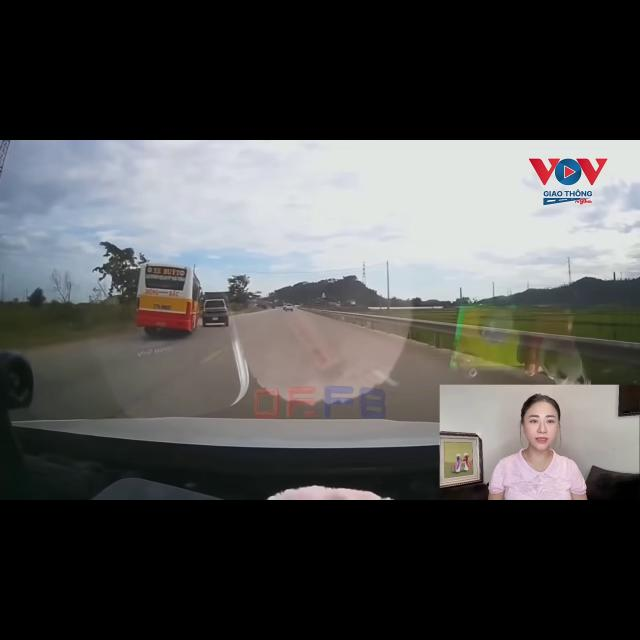bus: (136, 264, 200, 334)
car: (202, 299, 228, 326), (284, 304, 293, 311)
